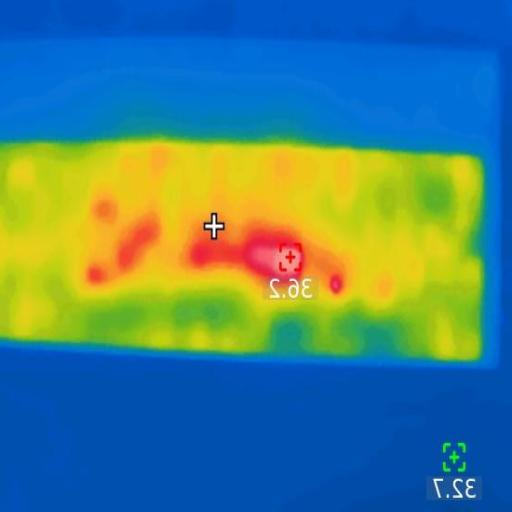hotspot: (247, 240, 302, 279), (188, 239, 218, 268), (327, 275, 346, 292)
